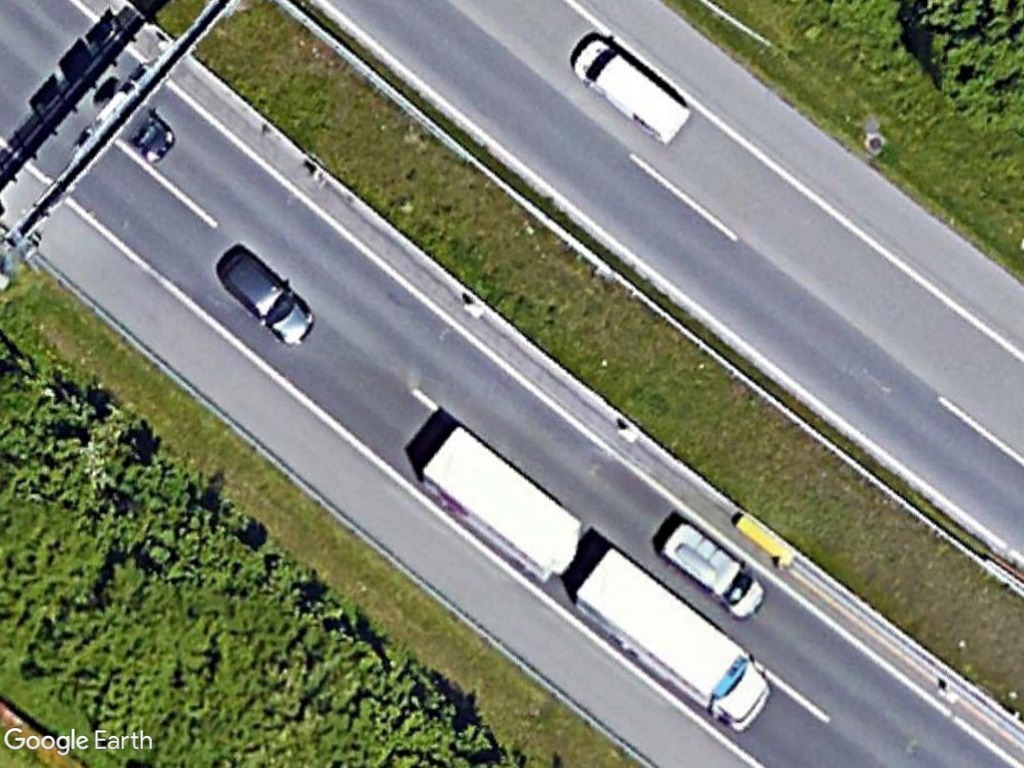car: (216, 244, 321, 354)
truck: (572, 547, 774, 734)
van: (564, 32, 692, 154), (654, 518, 768, 618)
